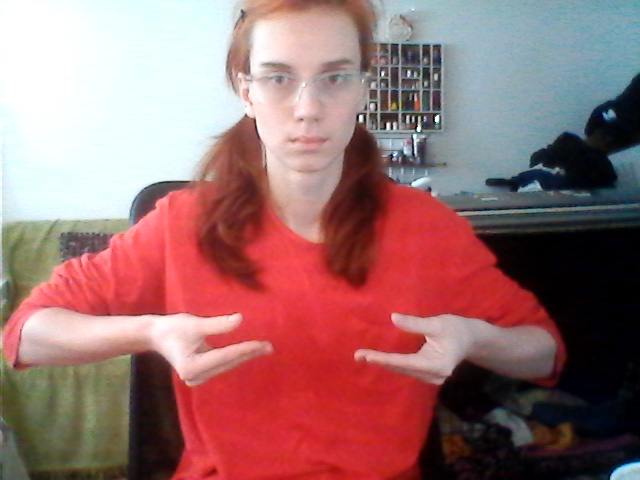drzat: (156, 297, 466, 394)
